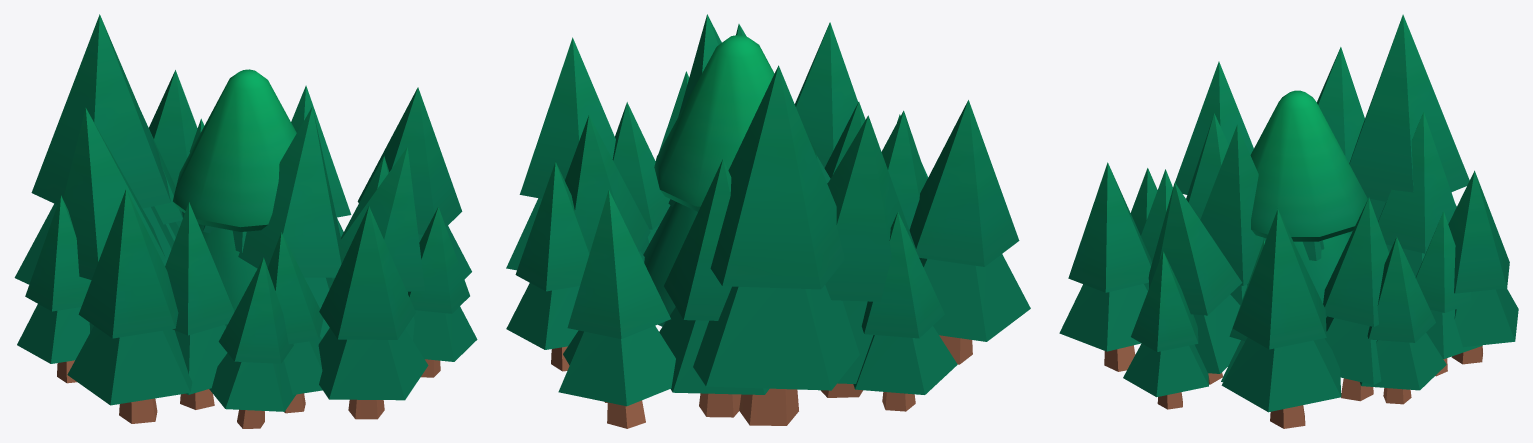
The model's file is nature.glb.
3 views of the same model, side by side, from view 1: azimuth 30°, elevation 25°; view 2: azimuth 150°, elevation 25°; view 3: azimuth 270°, elevation 25° (orthographic). The views are drawn at different scales.
Visible parts, largest first — view 1: trees_A_medium, trees_A_small, tree_single_B; view 2: trees_A_medium, trees_A_small, tree_single_B; view 3: trees_A_medium, trees_A_small, tree_single_B.
Part boxes in pixels (box(x1,y1,x2,y2)): trees_A_medium: box(14, 14, 477, 428); trees_A_small: box(63, 85, 424, 413); tree_single_B: box(173, 69, 333, 310); trees_A_medium: box(506, 22, 1030, 428); trees_A_small: box(563, 14, 927, 417); tree_single_B: box(643, 35, 817, 326); trees_A_medium: box(1059, 14, 1518, 428); trees_A_small: box(1141, 47, 1482, 401); tree_single_B: box(1247, 90, 1367, 317).
Bounding box in the file's own units: 1.75 × 1.38 × 1.81.
Materials: 1 (1 with a texture image).
